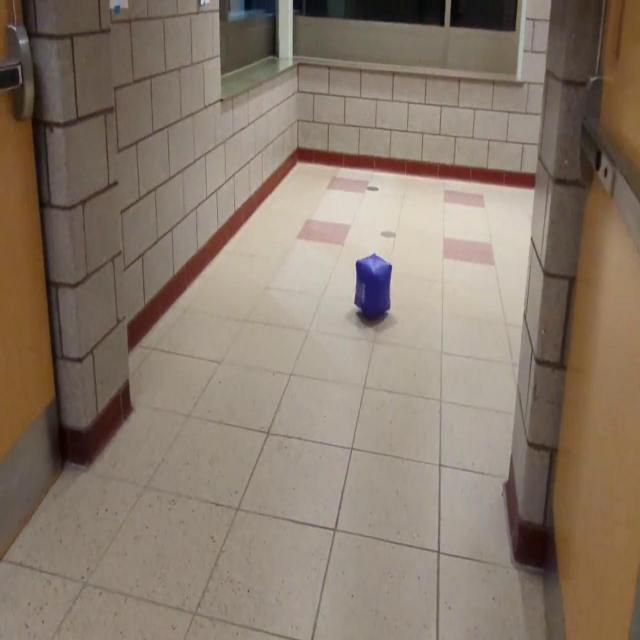frc_cube: (354, 252, 392, 318)
